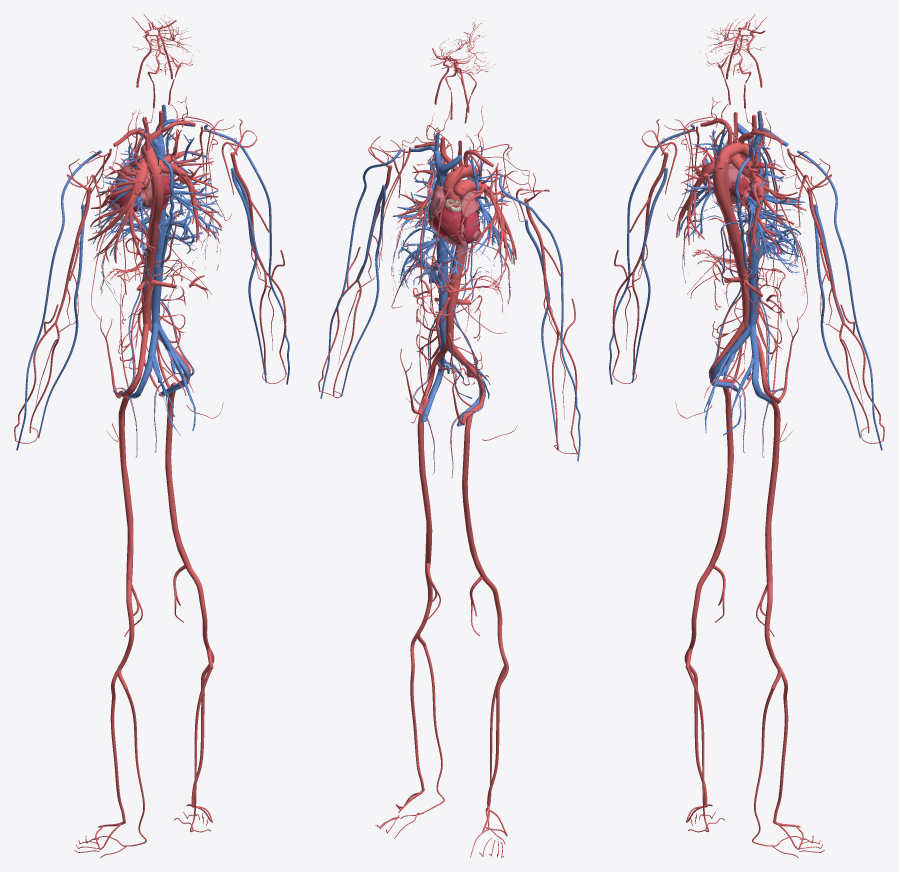
The model's file is circulatory_lod2.glb.
3 views of the same model, side by side, from view 1: azimuth 30°, elevation 25°; view 2: azimuth 150°, elevation 25°; view 3: azimuth 330°, elevation 25° (orthographic). The views are drawn at different scales.
Visible parts, largest first — view 1: FJ2074, FJ2143, FJ3427, FJ2220, FJ2272, FJ2218, FJ2270, FJ2086, FJ2065, FJ2170, FJ3659, FJ2130; view 2: FJ2074, FJ2143, FJ2220, FJ2423, FJ2272, FJ2270, FJ2130, FJ2065, FJ2218, FJ1932, FJ2404; view 3: FJ2143, FJ2074, FJ3427, FJ2272, FJ2220, FJ2218, FJ2270, FJ2130, FJ2170, FJ3659, FJ2086, FJ2065.
Boxes of the visible parts, <box> form: FJ2074: <box>118,397,133,581</box>; FJ2143: <box>165,382,191,569</box>; FJ3427: <box>143,172,163,324</box>; FJ2220: <box>16,150,101,450</box>; FJ2272: <box>204,124,289,384</box>; FJ2218: <box>38,204,84,438</box>; FJ2270: <box>231,167,266,382</box>; FJ2086: <box>117,580,134,689</box>; FJ2065: <box>110,669,125,822</box>; FJ2170: <box>186,565,213,668</box>; FJ3659: <box>151,254,163,325</box>; FJ2130: <box>191,648,214,804</box>; FJ2074: <box>462,409,485,578</box>; FJ2143: <box>417,398,432,564</box>; FJ2220: <box>499,174,580,461</box>; FJ2423: <box>432,201,463,245</box>; FJ2272: <box>320,149,401,398</box>; FJ2270: <box>341,184,385,396</box>; FJ2130: <box>410,633,424,790</box>; FJ2065: <box>487,654,508,806</box>; FJ2218: <box>524,219,558,448</box>; FJ1932: <box>446,254,465,348</box>; FJ2404: <box>398,240,469,288</box>; FJ2143: <box>765,395,780,582</box>; FJ2074: <box>708,387,733,568</box>; FJ3427: <box>713,167,749,322</box>; FJ2272: <box>797,150,882,450</box>; FJ2220: <box>609,124,694,384</box>; FJ2218: <box>632,167,667,382</box>; FJ2270: <box>814,204,860,438</box>; FJ2130: <box>773,669,788,822</box>; FJ2170: <box>764,581,781,689</box>; FJ3659: <box>748,256,759,328</box>; FJ2086: <box>685,565,712,668</box>; FJ2065: <box>684,648,707,804</box>.
Bounding box in the file's own units: 55.9 × 165 × 21.33.
